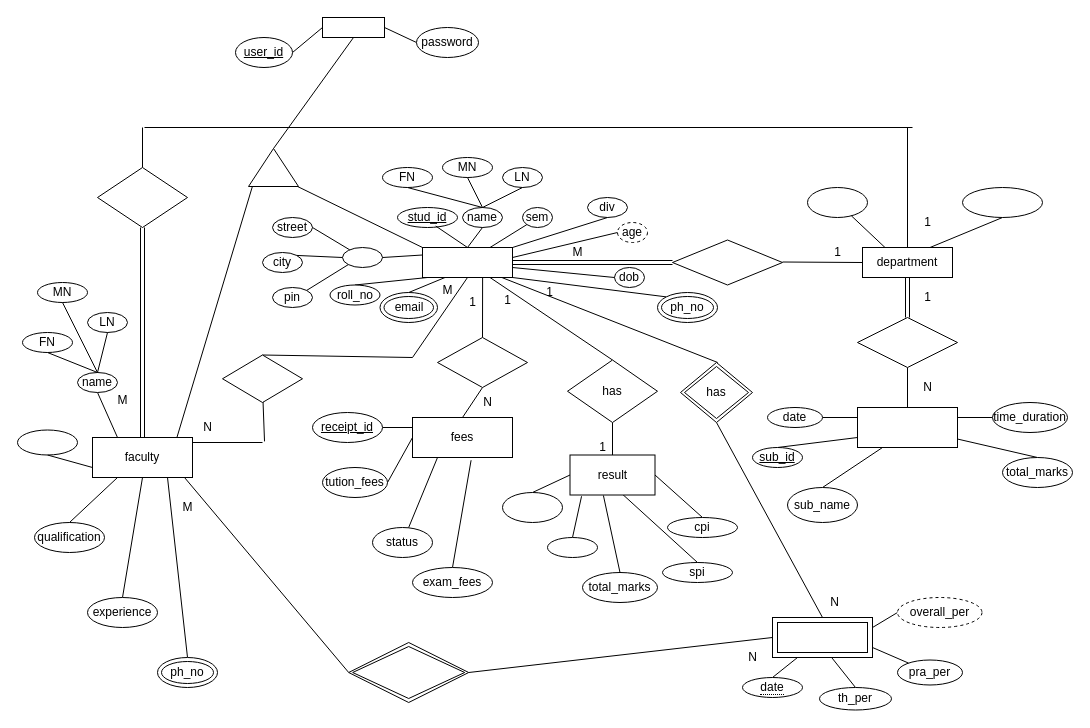
Image size: 1090x728. Some labels were removed from this diagram. The shapes that lost their labels are listed below. From the top down, each one's centre as x and y in pixels, then its label:
the point at 353,27: user
the point at 273,167: IS-A
the point at 142,197: works-in
the point at 837,202: dept_name
the point at 1002,202: dept_id
the point at 362,257: add
the point at 467,262: student
the point at 727,262: studies
the point at 482,362: pays
the point at 907,342: conducts
the point at 262,378: teaches
the point at 47,442: fid
the point at 907,427: exam
the point at 532,507: result_id
the point at 572,547: cgpa
the point at 822,637: attendance
the point at 408,672: manages
